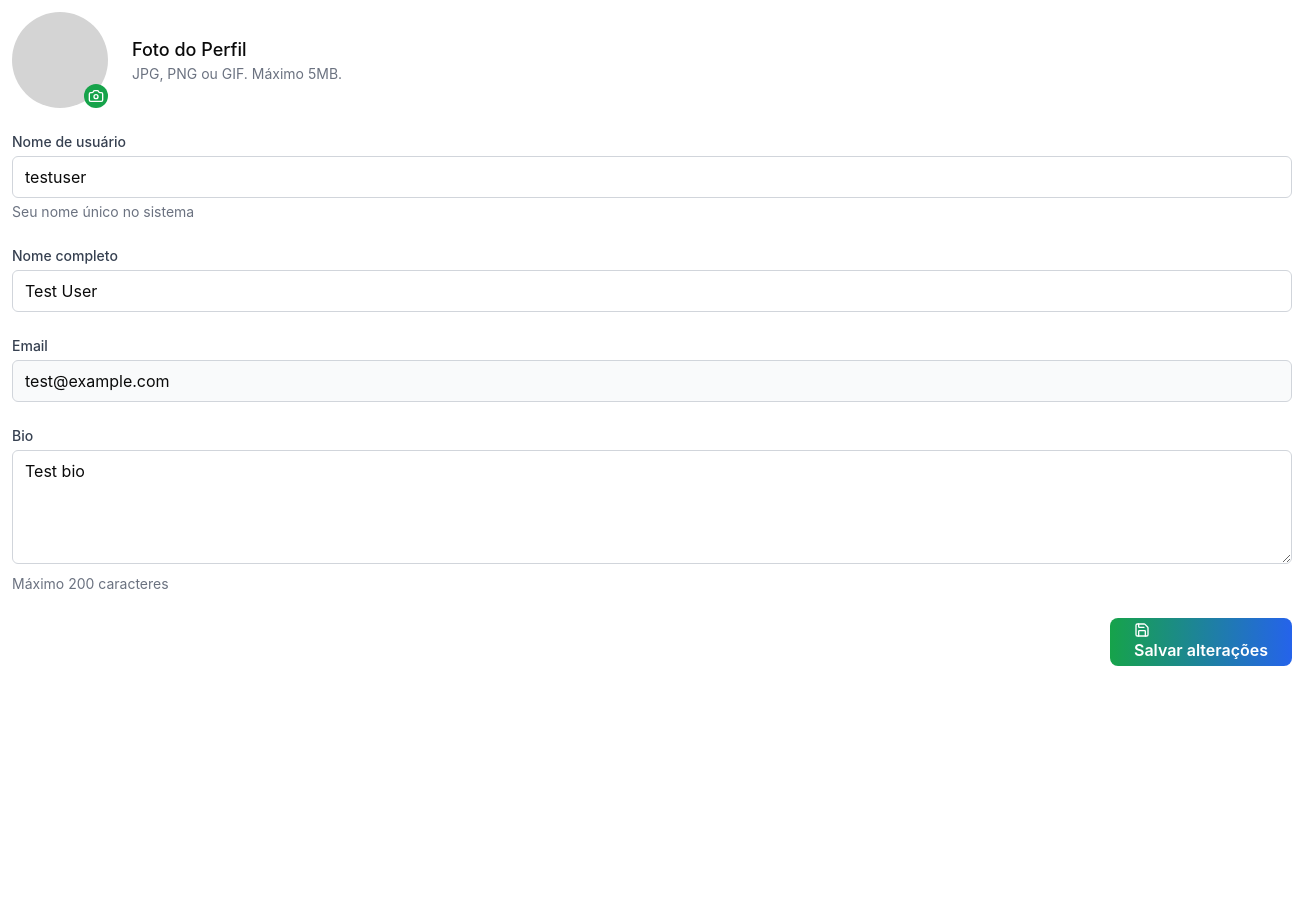
Test case: ProfileForm › Form Submission › disables submit button while loading
Click the button "Salvar alterações". click: (1201, 642)
box: x1=1110 y1=618 x2=1292 y2=666
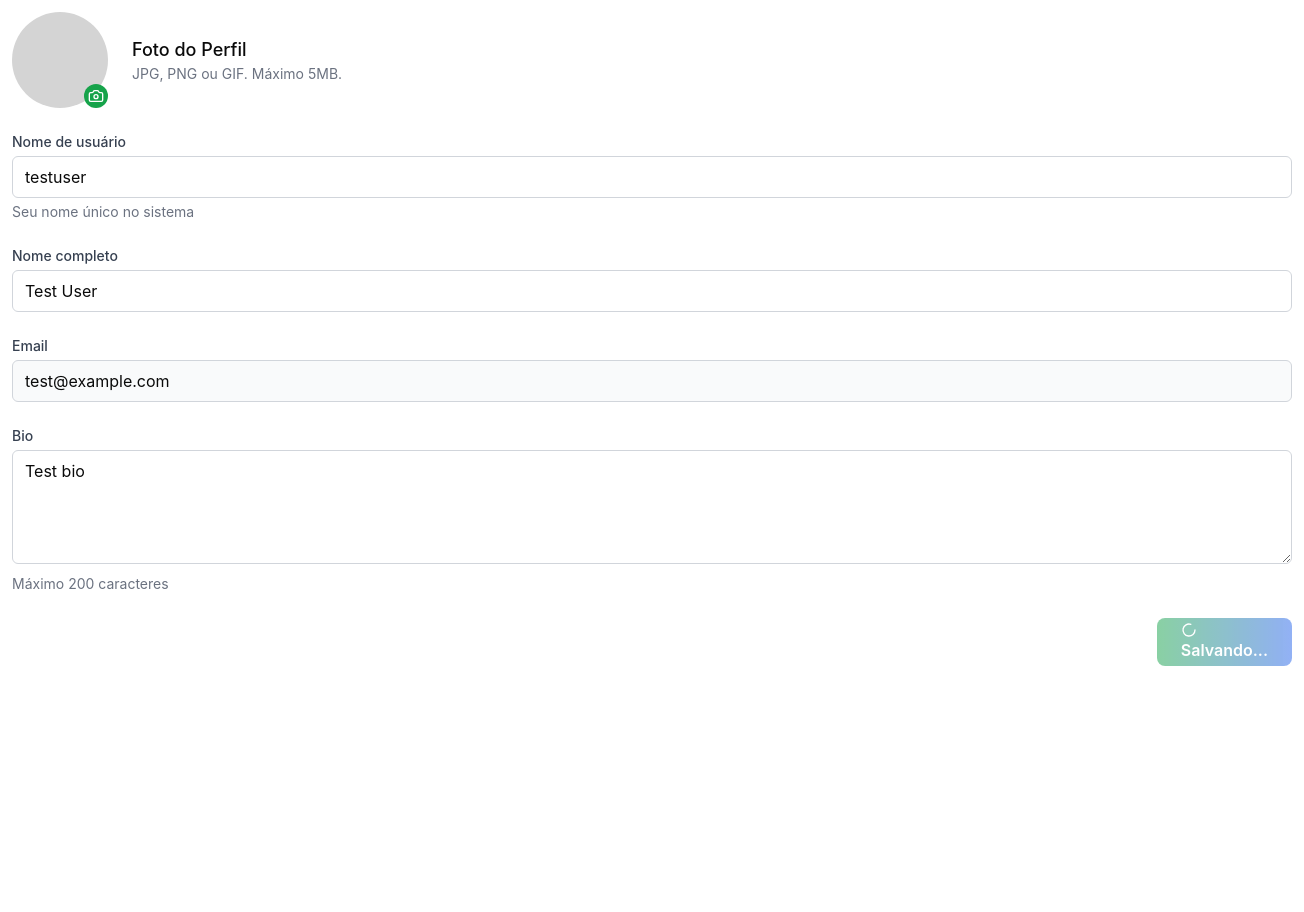
Check: the button "Salvando..." is disabled, box x1=1157 y1=618 x2=1292 y2=666
